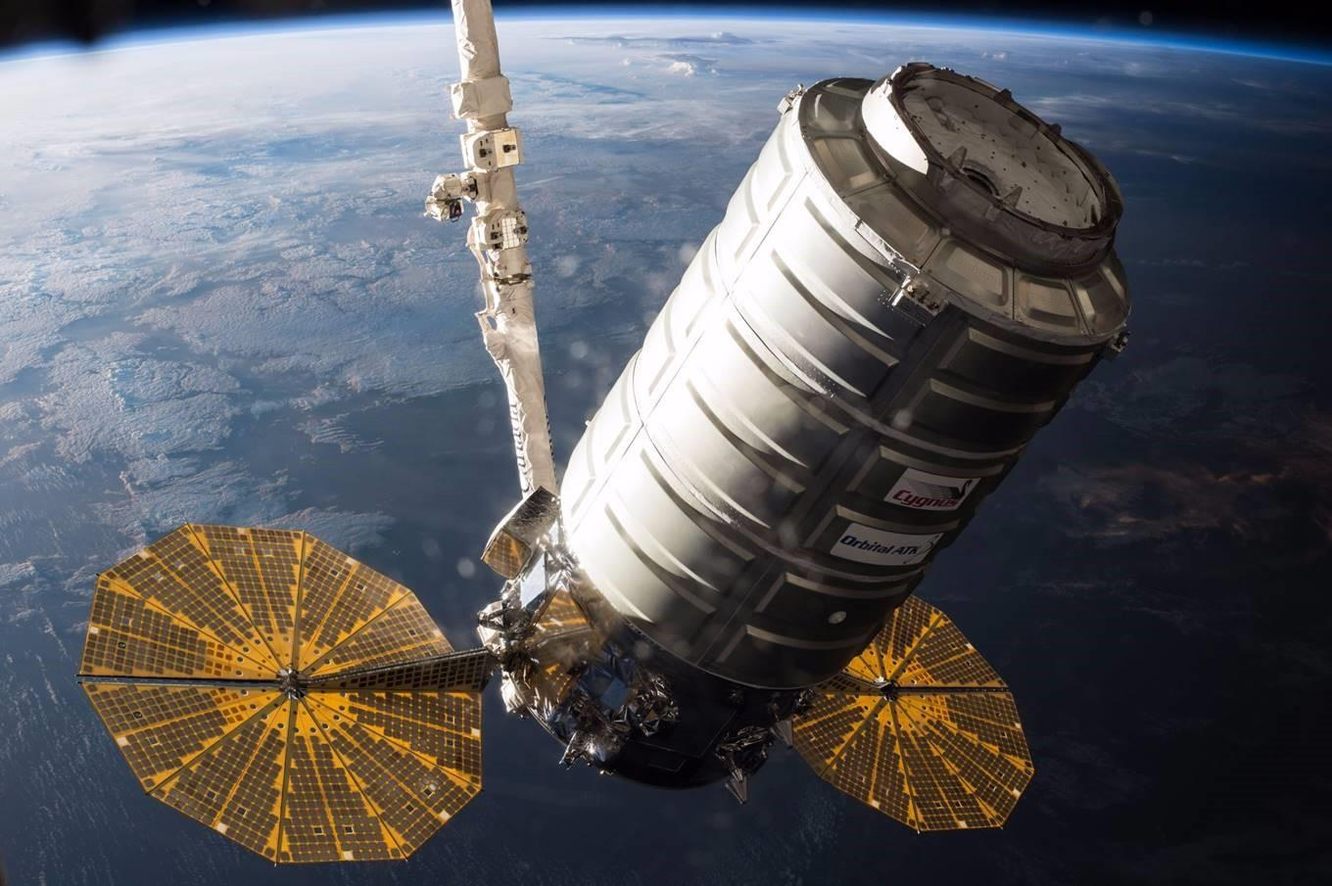body: (497, 56, 1143, 794)
solar: (72, 519, 485, 870), (788, 588, 1038, 838)
